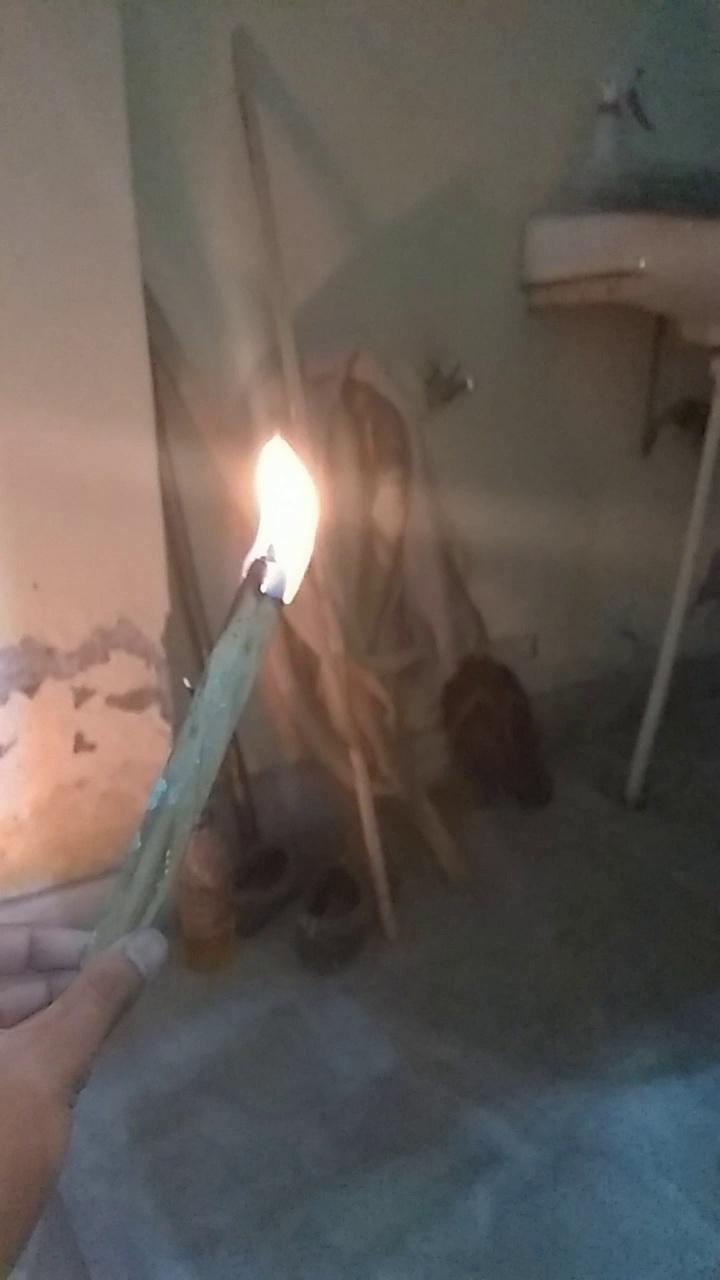fire: (224, 406, 334, 631)
